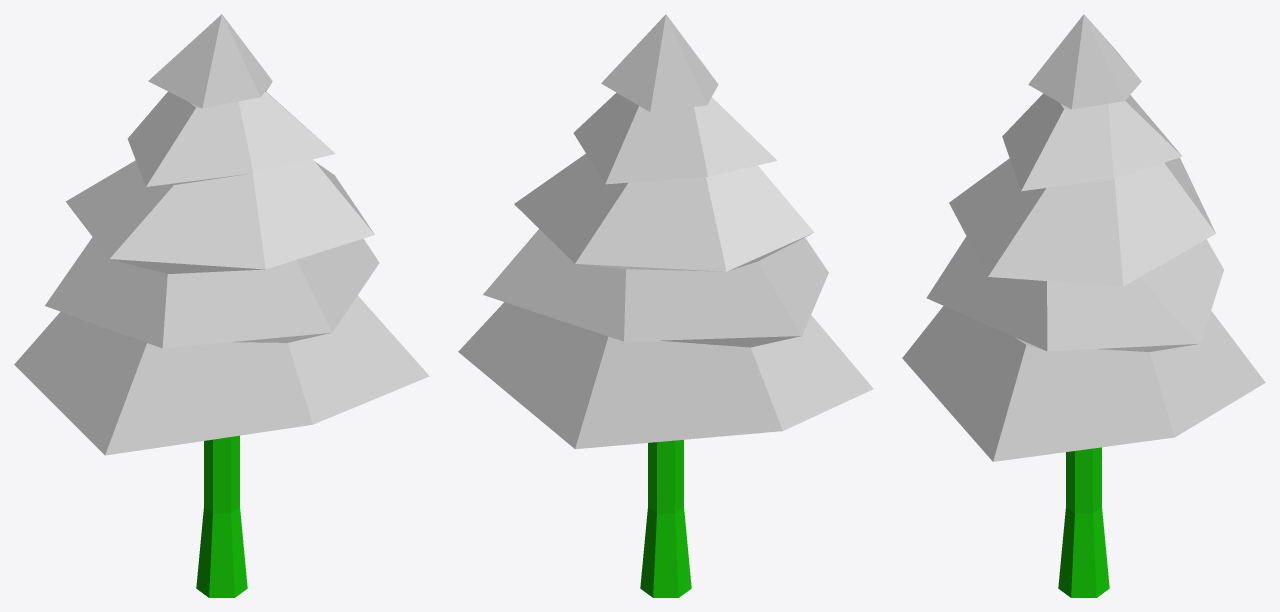
File: Oak Tree.fbx
3 renders of one model, left to right at view 1: azimuth 30°, elevation 25°; view 2: azimuth 150°, elevation 25°; view 3: azimuth 270°, elevation 25°, orthographic.
Visible parts, largest first — view 1: Tree; view 2: Tree; view 3: Tree.
Part boxes in pixels (bbox=[...]): Tree: bbox=[14, 14, 429, 597]; Tree: bbox=[458, 14, 873, 597]; Tree: bbox=[902, 14, 1265, 597].
Size of the model in its own units: 1041 by 1009 by 1759.
